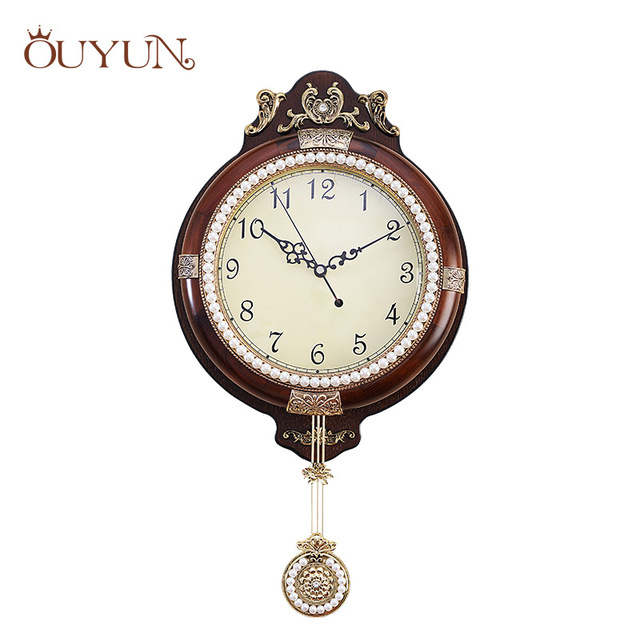clock: (208, 150, 436, 382)
